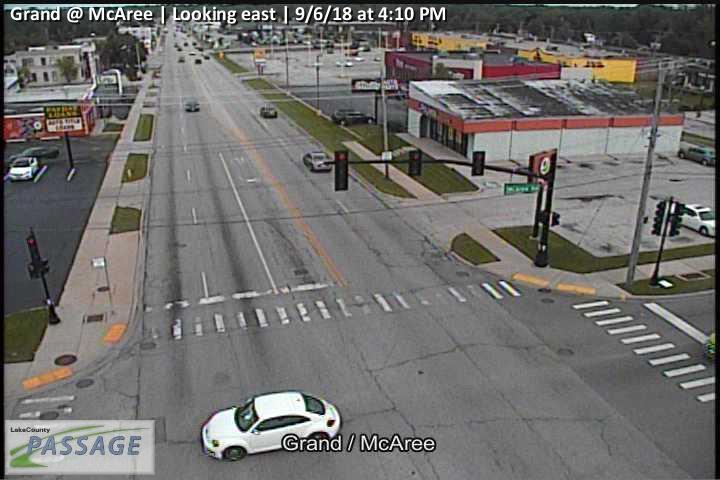SUV: (331, 107, 375, 127)
Sedan: (200, 390, 343, 461), (678, 204, 714, 237), (8, 157, 39, 184), (302, 151, 332, 172), (183, 97, 199, 112), (259, 107, 277, 118)
